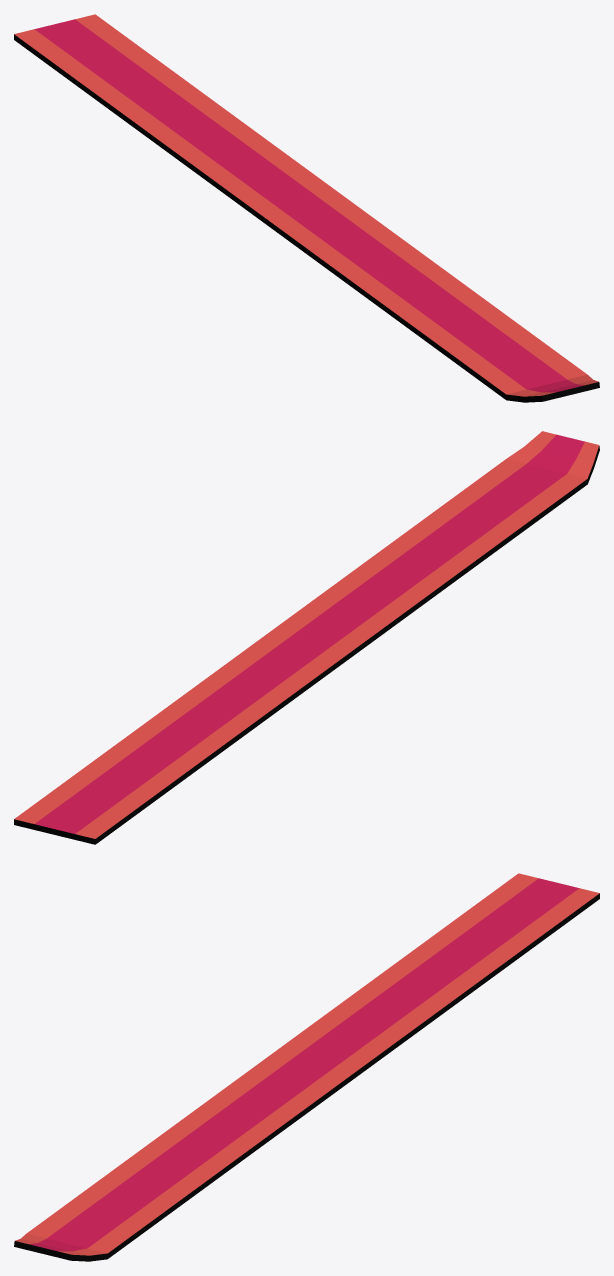
The model's file is Ski_Jumper_1_Ski_Left.fbx.
3 views of the same model, one above another, from view 1: azimuth 30°, elevation 25°; view 2: azimuth 150°, elevation 25°; view 3: azimuth 330°, elevation 25° (orthographic).
Parts seen in each view (by area): view 1: Ski_Jumper_1_Ski_Left; view 2: Ski_Jumper_1_Ski_Left; view 3: Ski_Jumper_1_Ski_Left.
Boxes of the visible parts, box(x1,y1,x2,y2) form: Ski_Jumper_1_Ski_Left: box(14, 14, 599, 402); Ski_Jumper_1_Ski_Left: box(14, 431, 599, 844); Ski_Jumper_1_Ski_Left: box(14, 873, 599, 1261).
Size of the model in its own units: 14.23 by 3.18 by 156.
